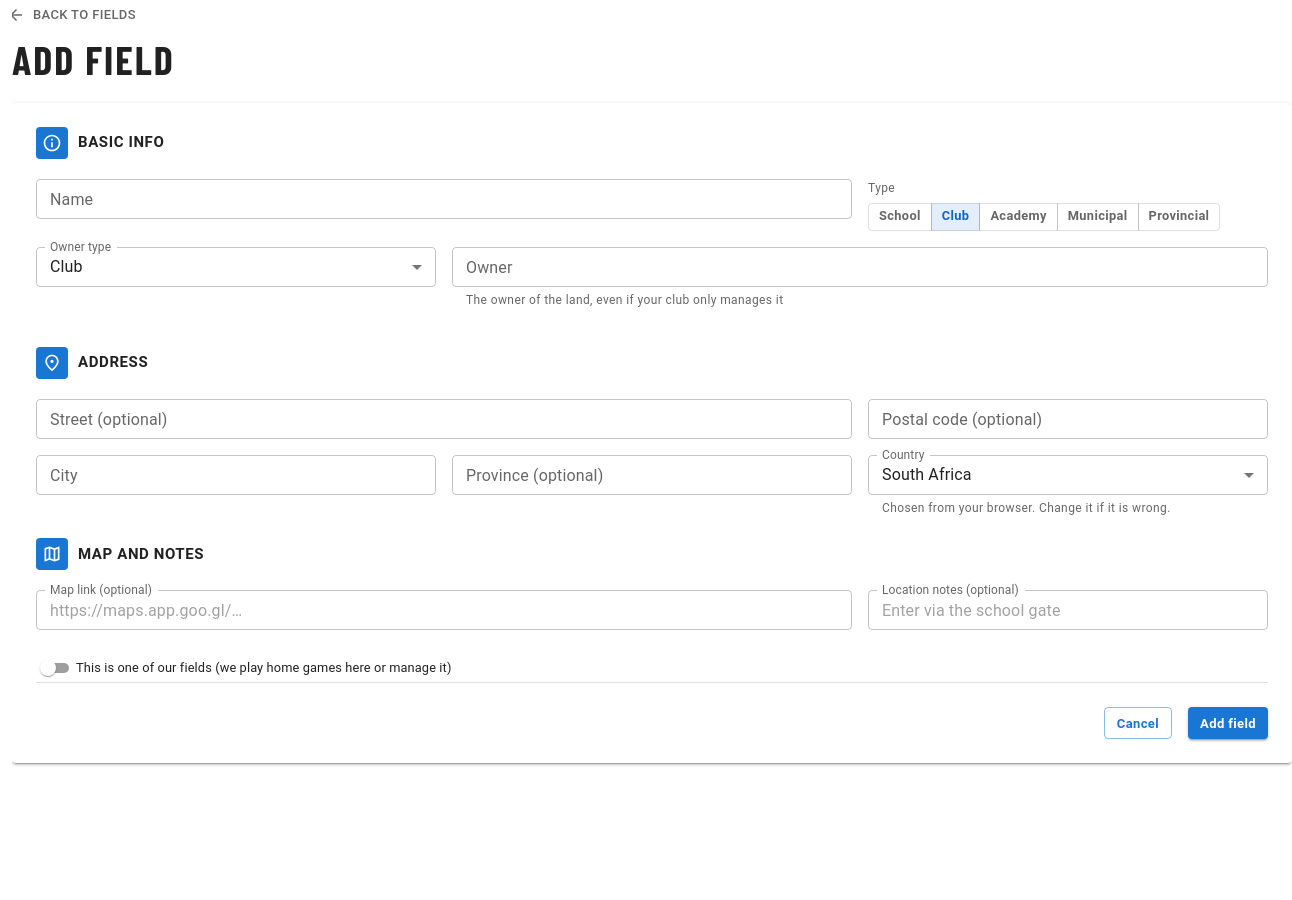
Test case: FieldFormPage › Add field › treats the street as optional, and requires name, owner, city
Expected: the heading "Add field" is shown, left=12, top=35, right=175, bottom=83
Click the button "Add field": coordinates (1228, 724) left=1188, top=708, right=1268, bottom=740
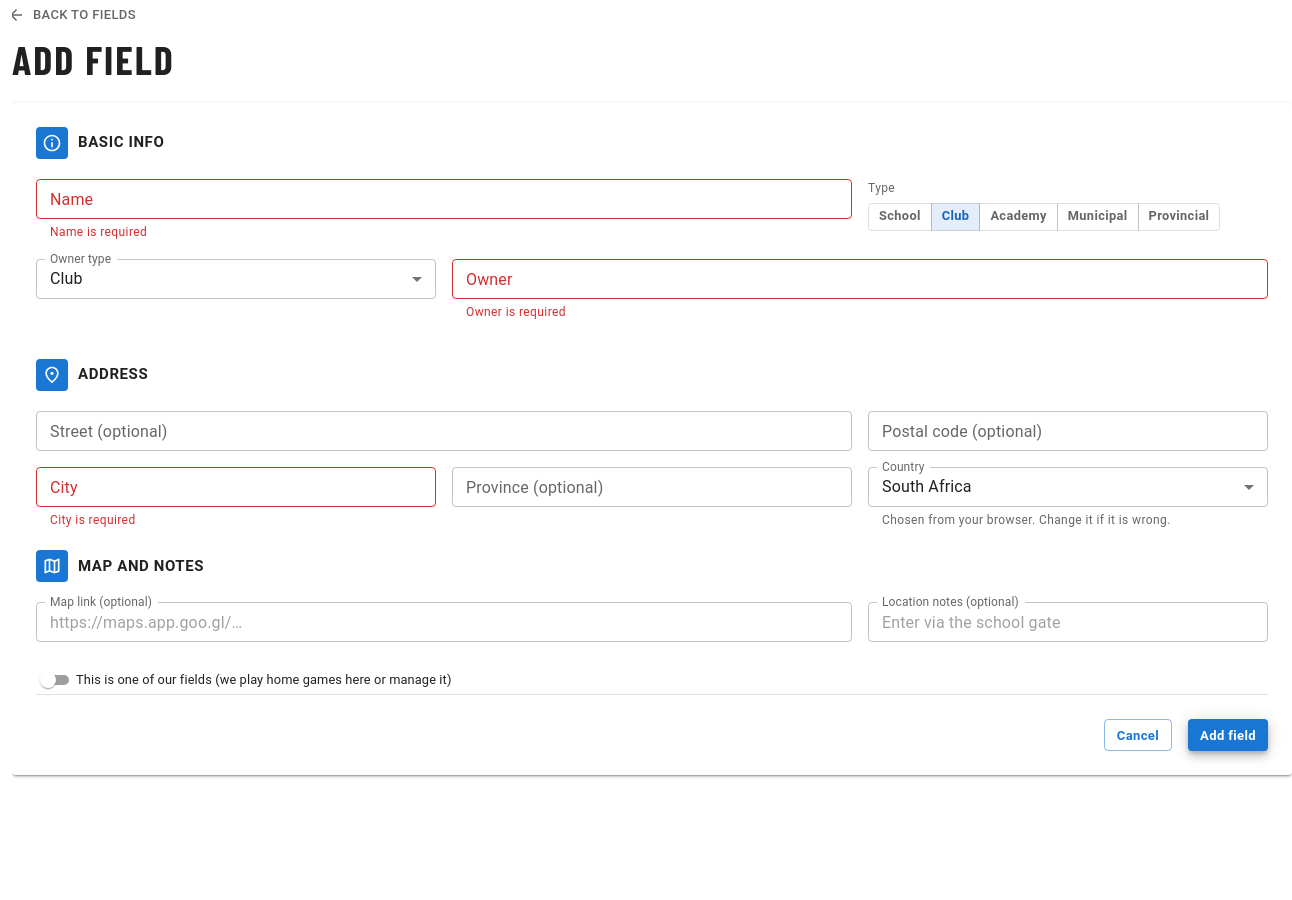
Now the text "Name is required" is shown, box left=50, top=225, right=147, bottom=239
Now the text "Owner is required" is shown, box left=466, top=305, right=566, bottom=319
Now the text "City is required" is shown, box left=50, top=513, right=136, bottom=527
